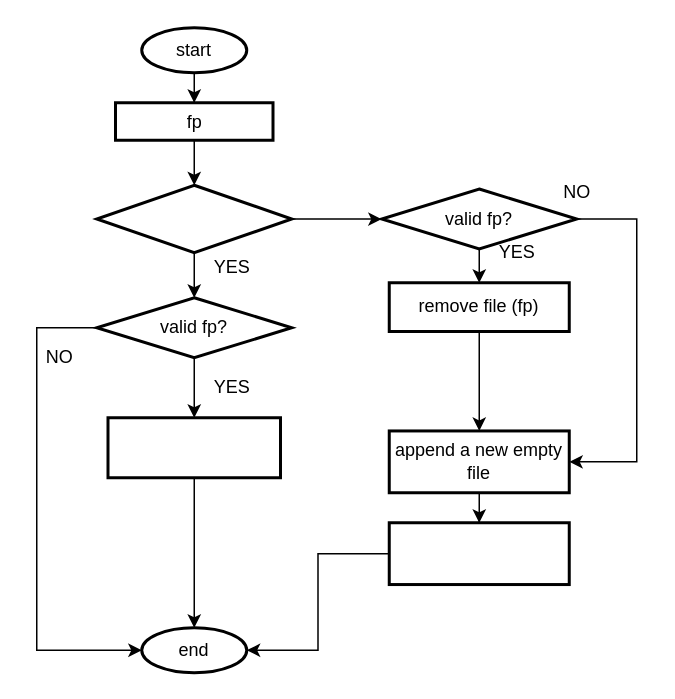
This 675x699 diagram has some shape labels left out. Each missing label, with the box of its shape:
READ MODE?: (94, 183, 292, 254)
return fp: (106, 416, 281, 478)
return new fp: (387, 520, 570, 585)
